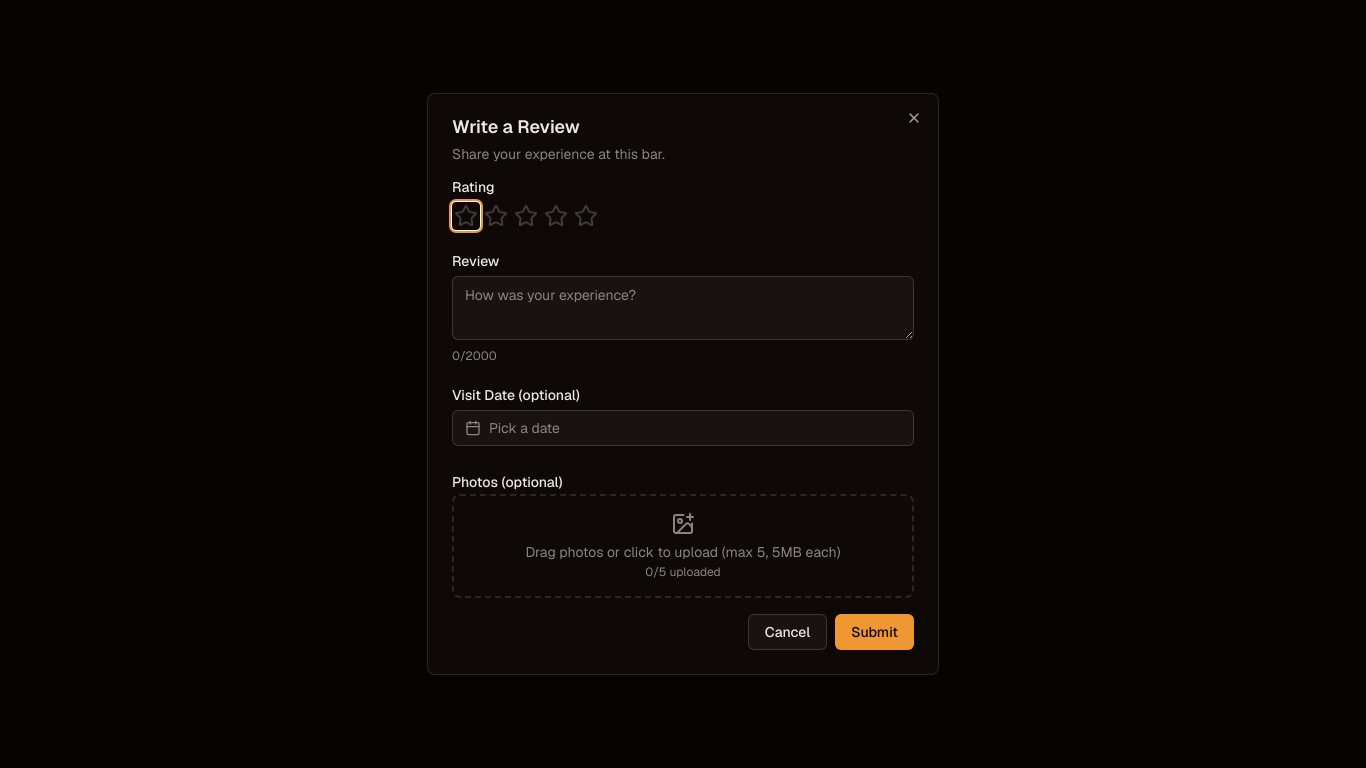
Test: ReviewFormModal › 폼 유효성 검사: 별점 미선택 › should show rating error message when rating is 0 and form is submitted
textarea에 내용 입력
Type "Some content" into the text box with placeholder "How was your experience?" at x=683, y=308, box x1=452 y1=276 x2=914 y2=340
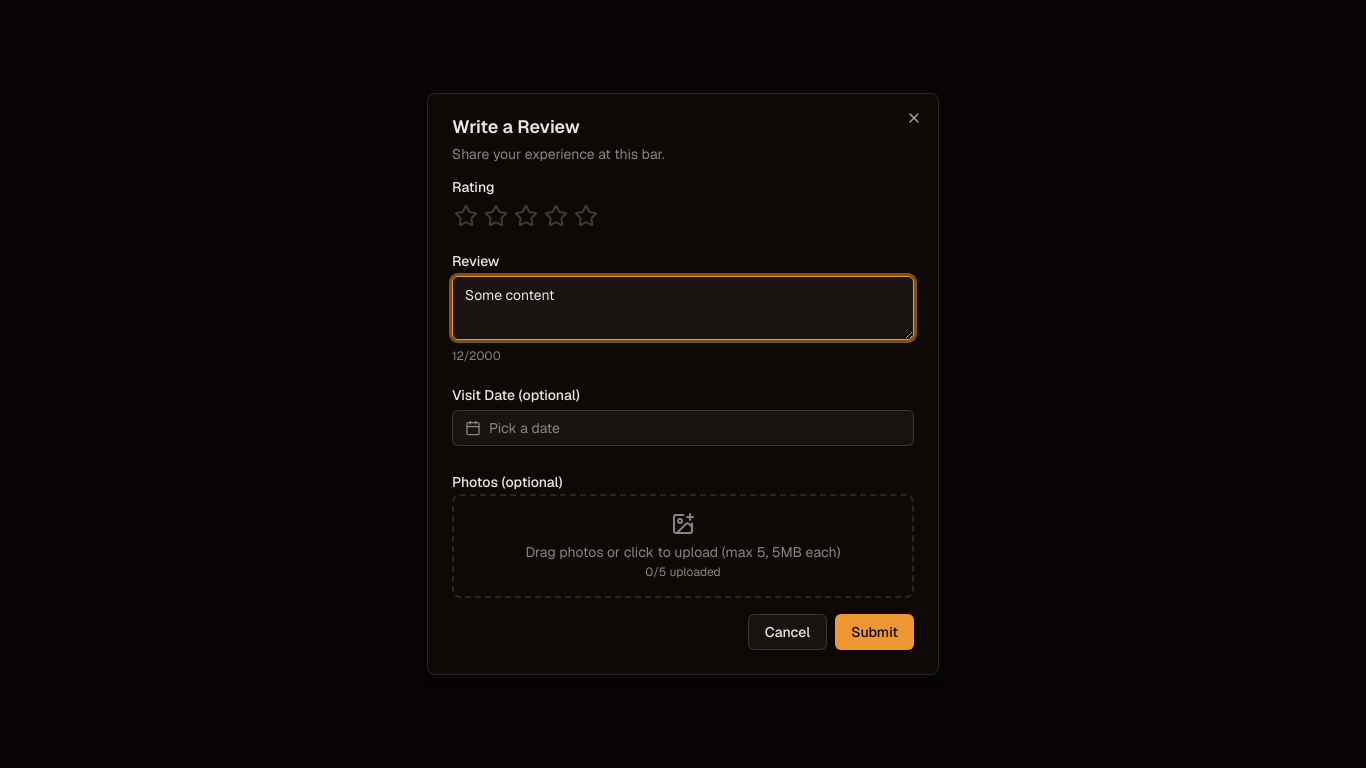
Click the button "Submit" at x=875, y=632, box x1=835 y1=614 x2=914 y2=650
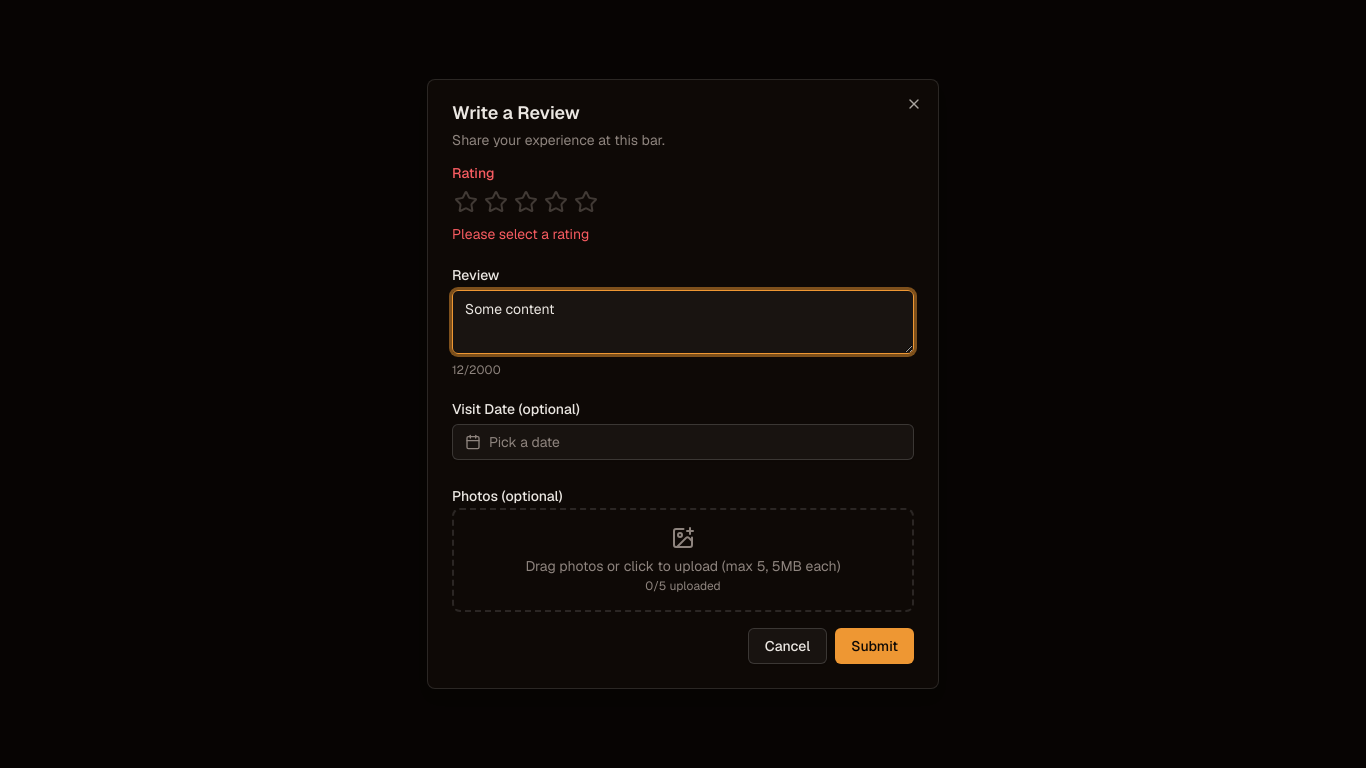
Expected: the text "Please select a rating" is shown, x1=452 y1=225 x2=589 y2=243
